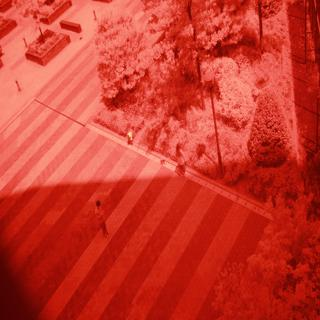person: (92, 196, 115, 241)
